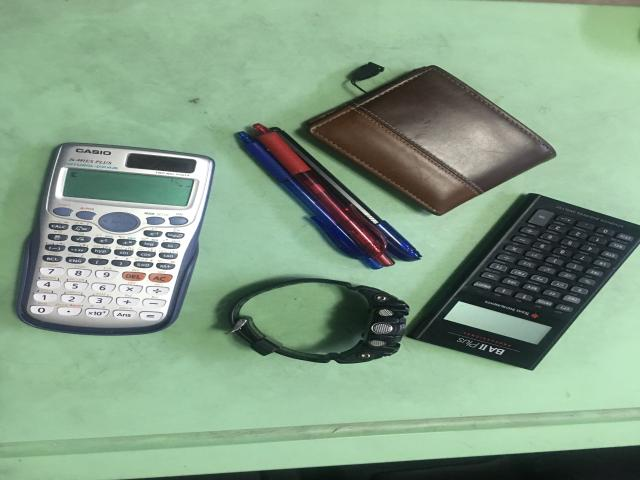Pen: (237, 125, 421, 269)
Wallet: (305, 66, 557, 216)
Watch: (217, 279, 409, 366)
